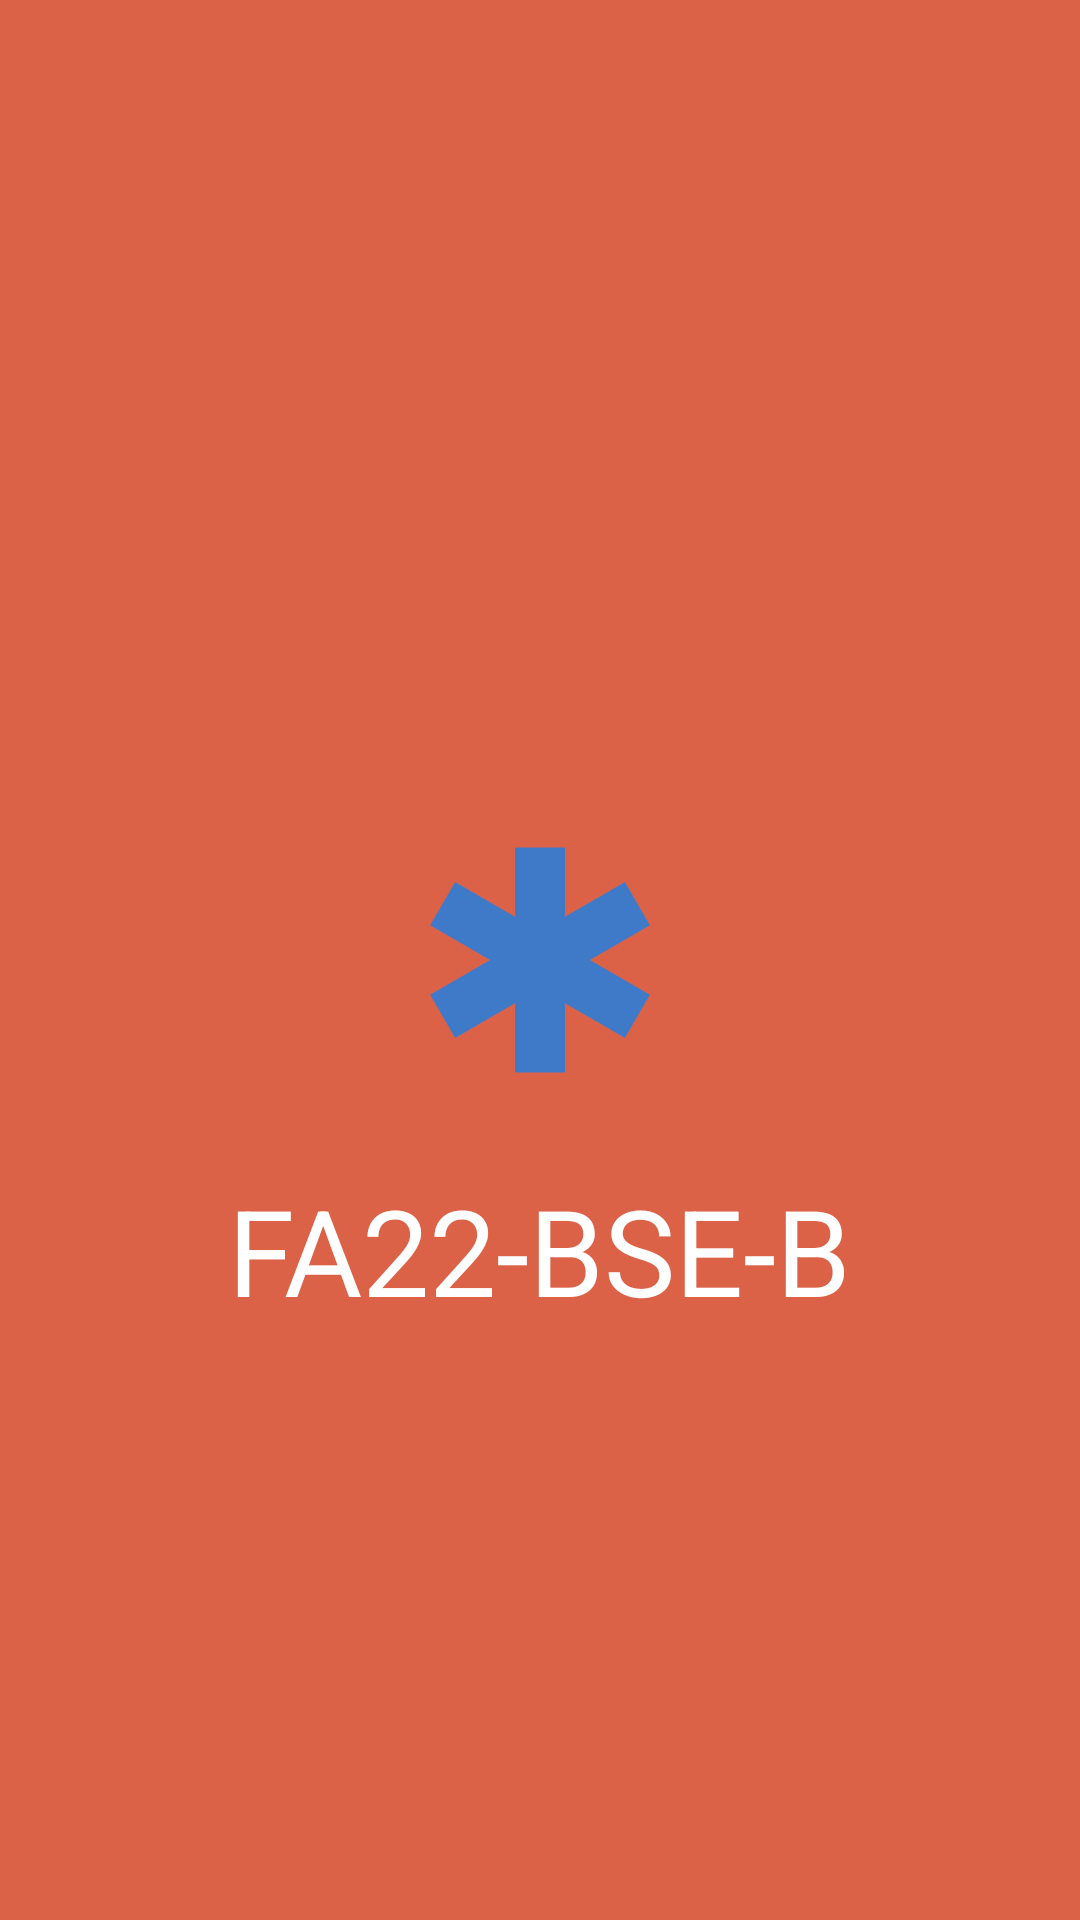

Locate icon controls on the screen. Image size 1080x1920, boxes as (x1,y1,x2,y2).
emergency: (430,847,650,1073)
